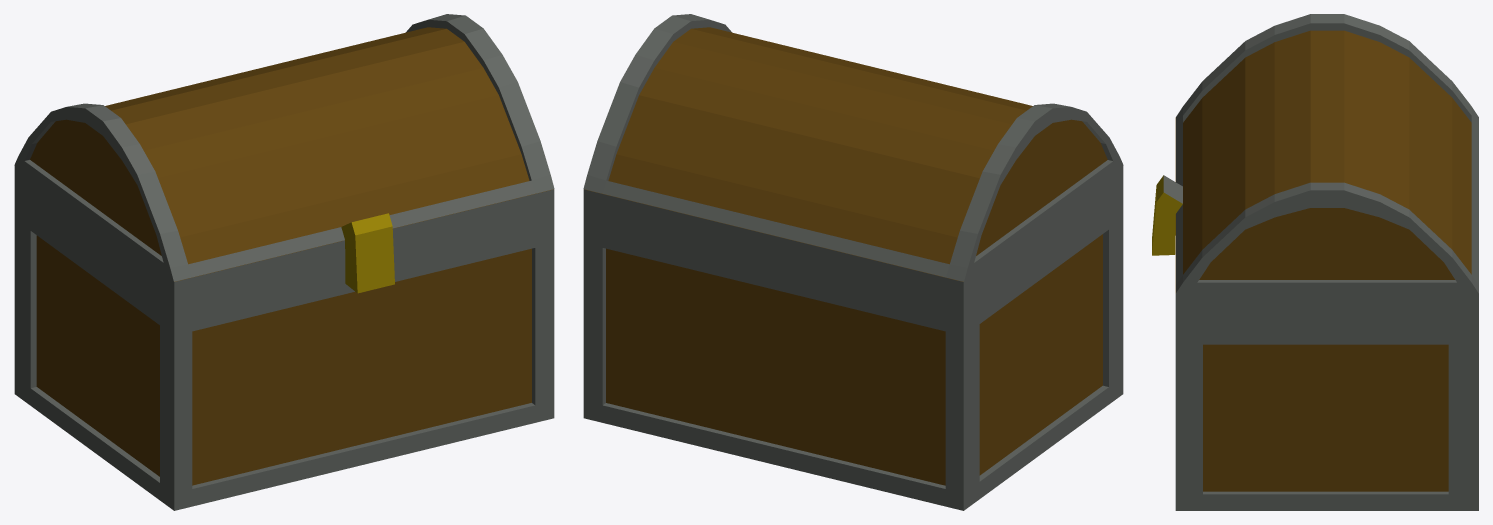
Rendered from ClosedChest.glb.
3 renders of one model, left to right at view 1: azimuth 30°, elevation 25°; view 2: azimuth 150°, elevation 25°; view 3: azimuth 270°, elevation 25°, orthographic. The views are drawn at different scales.
Parts seen in each view (by area): view 1: ChestBottom; view 2: ChestBottom; view 3: ChestBottom.
Boxes of the visible parts, x1,y1,x2,y2 form: ChestBottom: [14, 14, 554, 510]; ChestBottom: [583, 14, 1123, 510]; ChestBottom: [1152, 14, 1478, 510].
Bounding box in the file's own units: 0.686 × 0.5817 × 0.5375.
